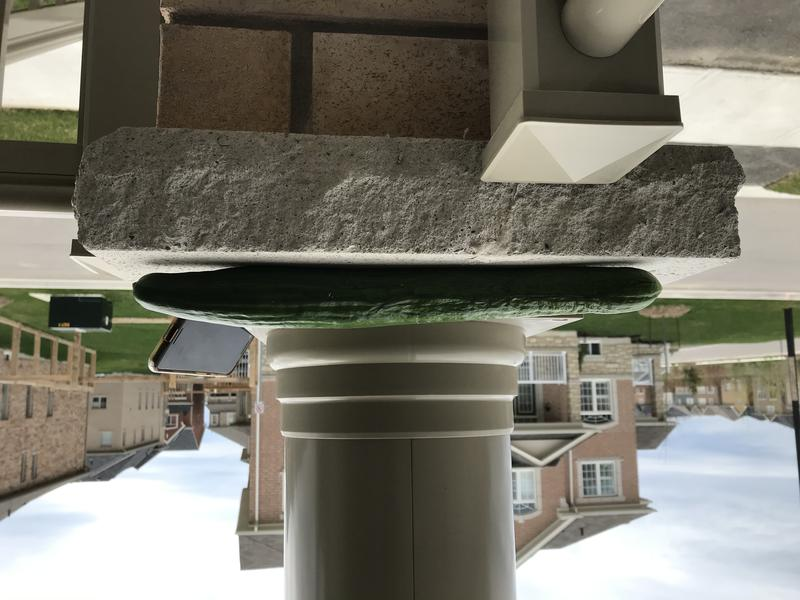cucumber: (122, 248, 668, 338)
